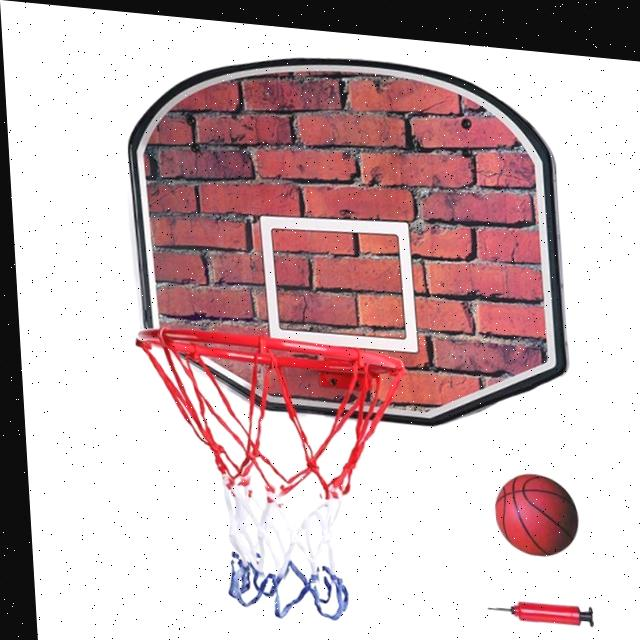basketball: (493, 469, 580, 560)
hoop: (136, 322, 418, 628)
